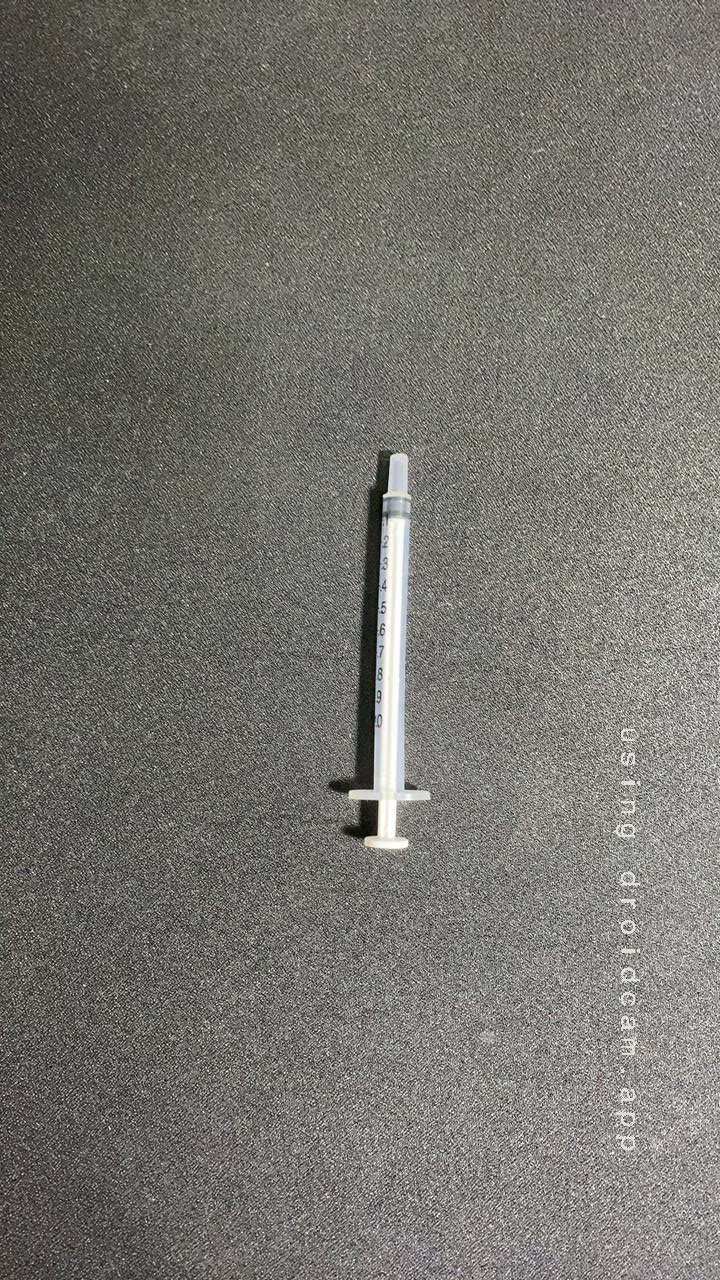syringe: (303, 425, 471, 864)
